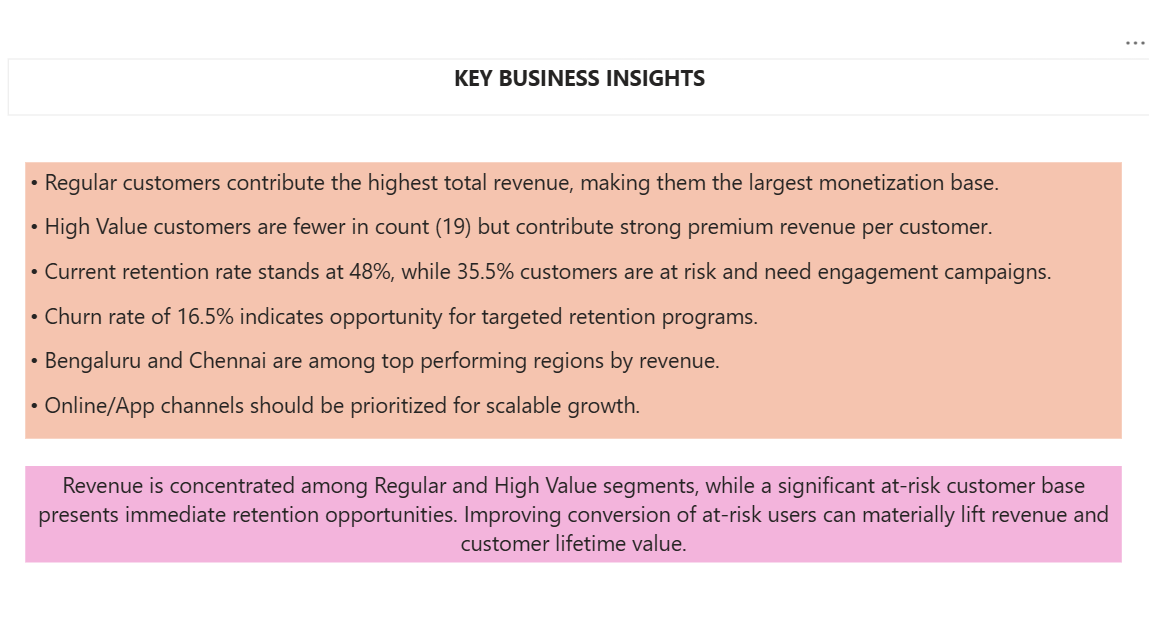

The page's visual inventory and layout, read from the dashboard file:
{"tool":"powerbi","page":{"name":"Insights","canvas":[1280,720],"ordinal":1},"visuals":[{"type":"textbox","box":[28.8,185.2,1218.5,307.4],"z":0},{"type":"textbox","box":[28.8,522.8,1218.5,107],"z":1},{"type":"textbox","box":[9.6,70,1270.7,63.1],"z":2}]}

Visuals, with their boxes in screenshot pixels (x1, y1, x2, y2), scaled from the page's 1280x720 canvas onto the 1149x641 screenshot:
textbox: locate(26, 165, 1120, 439)
textbox: locate(26, 465, 1120, 561)
textbox: locate(9, 62, 1148, 118)
